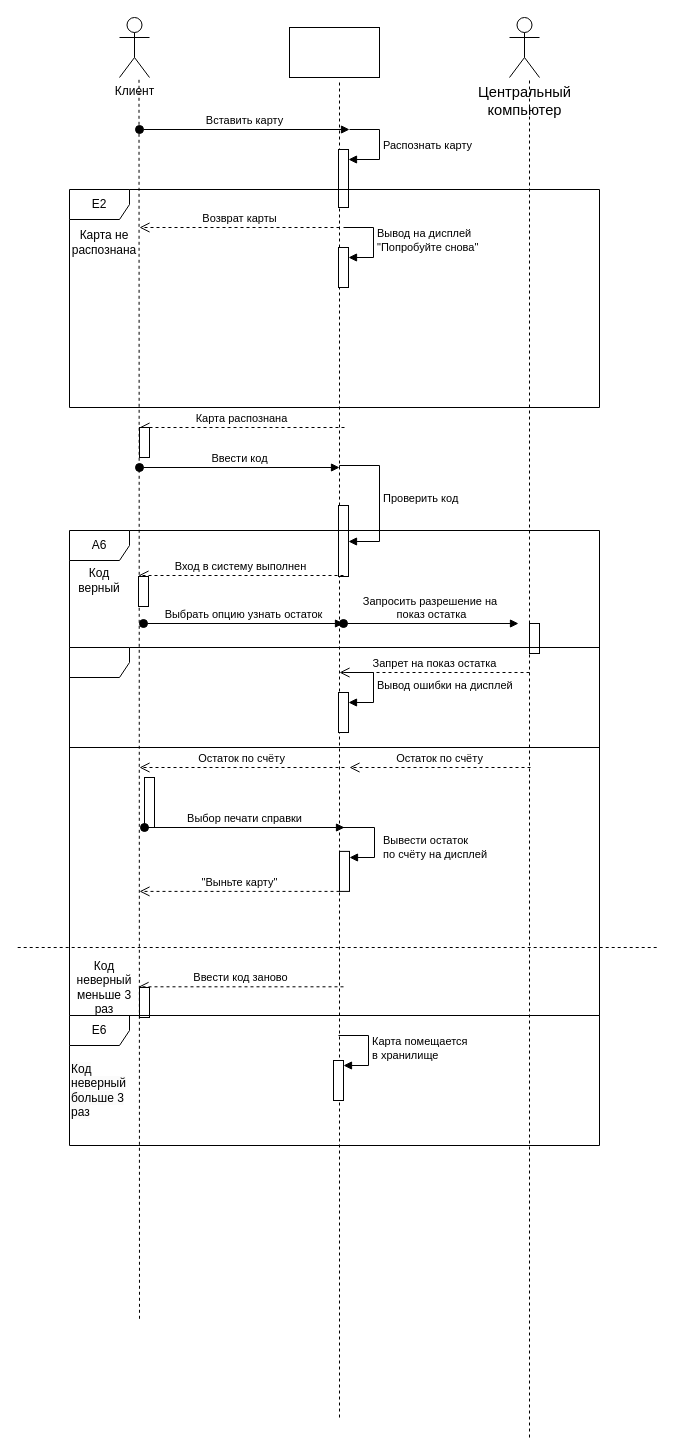
This 678x1456 diagram has some shape labels left out. The shapes that lost their labels are listed below. From the top down, each one's centre as x and y in pixels, then its label:
the point at 334,52: Система
the point at 334,697: E10
